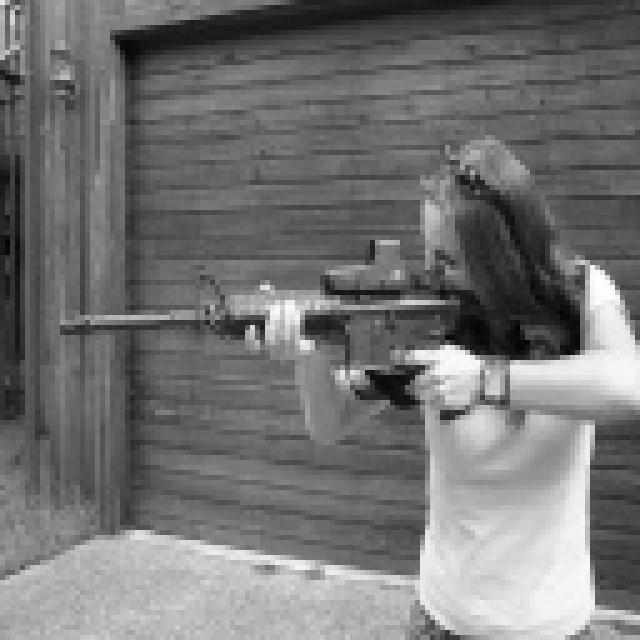Rifle: (0, 219, 522, 450)
